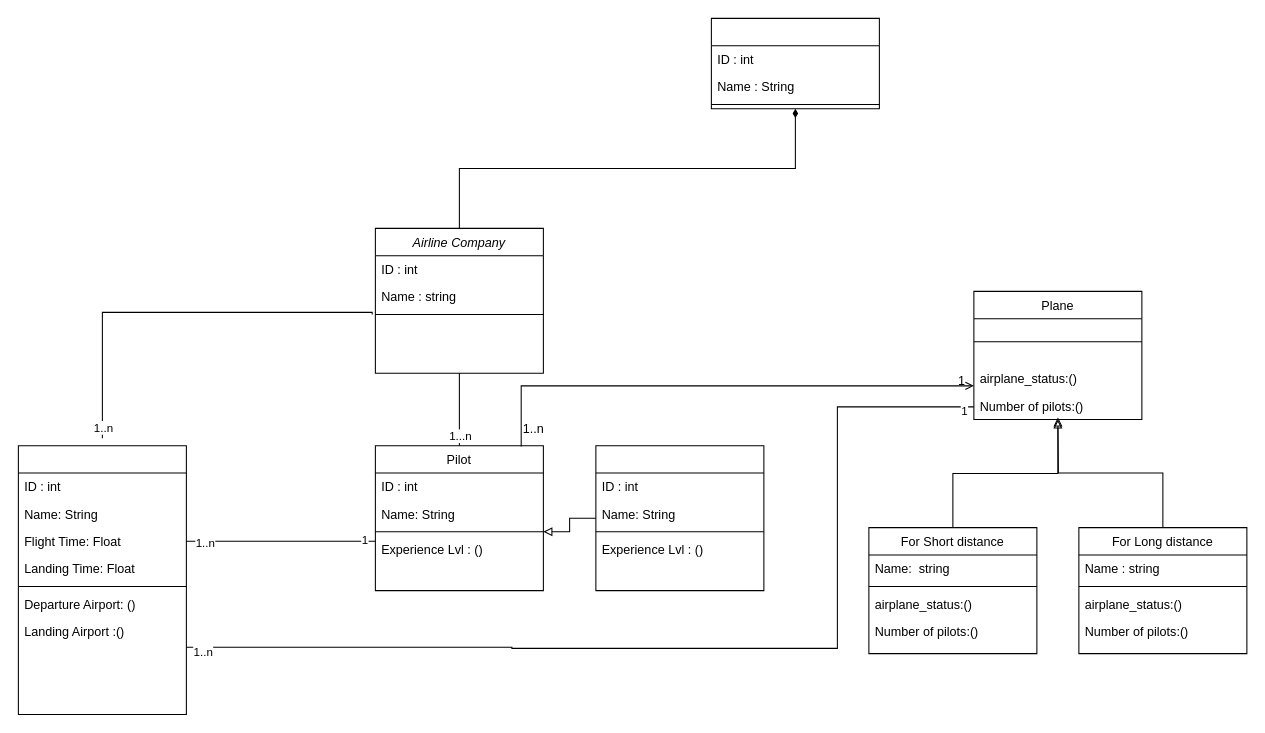
This 1265x733 diagram has some shape labels left out. The box of each missing label's shape, as (x1, y1, x2, y2) in pixels:
Airport: (710, 17, 879, 109)
Co - Pilot: (595, 445, 764, 591)
Flights: (17, 445, 186, 715)
